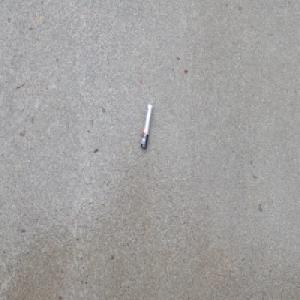Battery: (138, 102, 153, 151)
